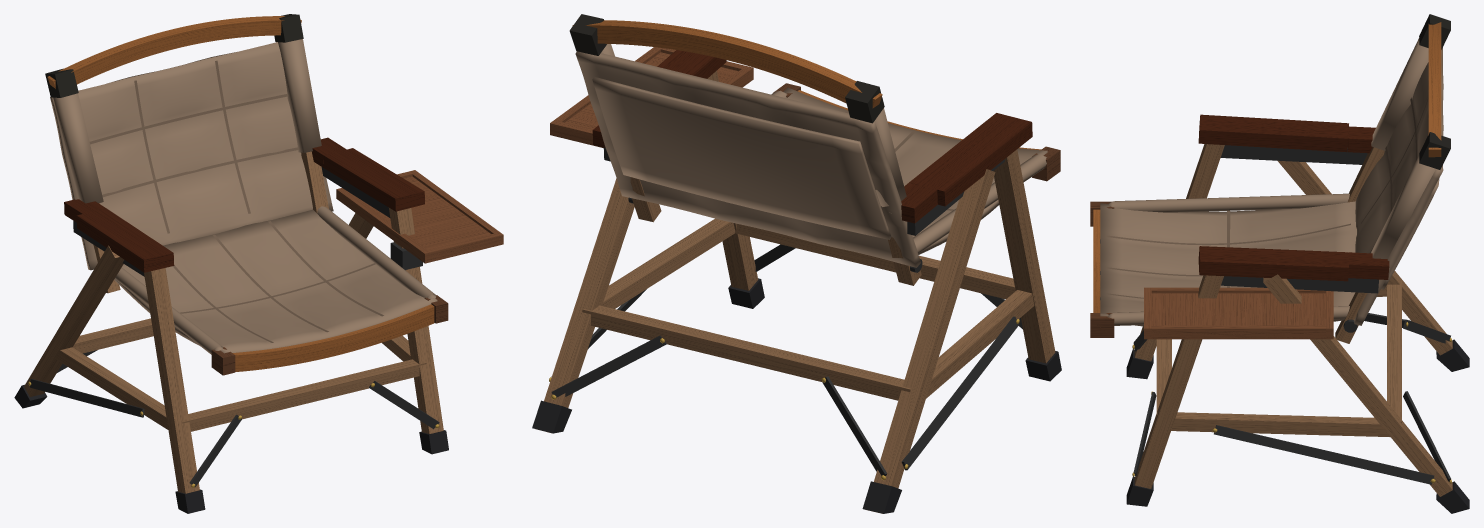
The model's file is quickcamp-wood-low-chair.glb.
3 renders of one model, left to right at view 1: azimuth 30°, elevation 25°; view 2: azimuth 150°, elevation 25°; view 3: azimuth 270°, elevation 25°, orthographic. The views are drawn at different scales.
Bounding box in the file's own units: 0.6657 × 0.65 × 0.6.
Materials: 12 (5 with a texture image).
